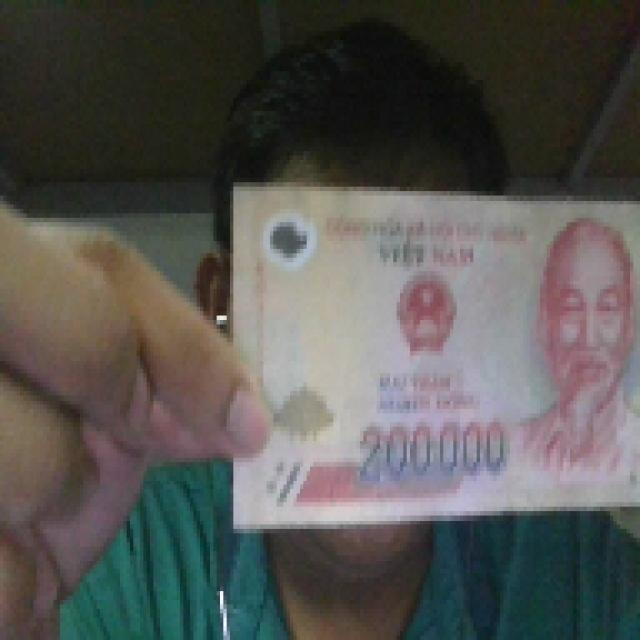200 000 VND: (223, 174, 637, 534)
